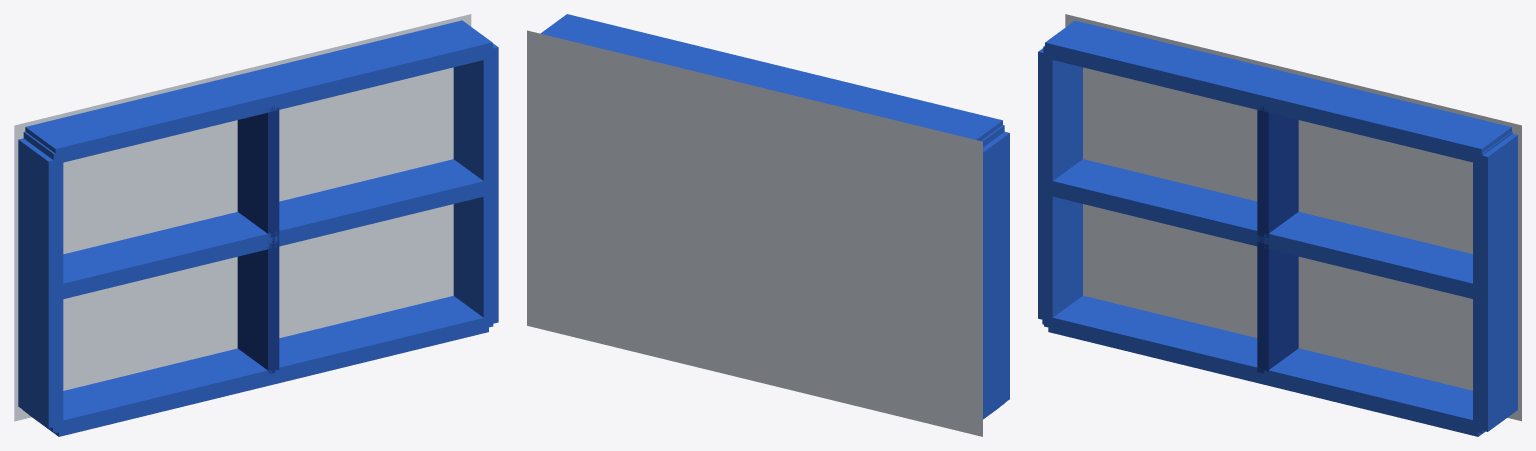
The model's file is stage_test.obj.
The picture shows the model from 3 angles, left to right: view 1: azimuth 30°, elevation 25°; view 2: azimuth 150°, elevation 25°; view 3: azimuth 330°, elevation 25°; orthographic projection.
Size of the model in its own units: 26.25 by 16.25 by 3.05.
